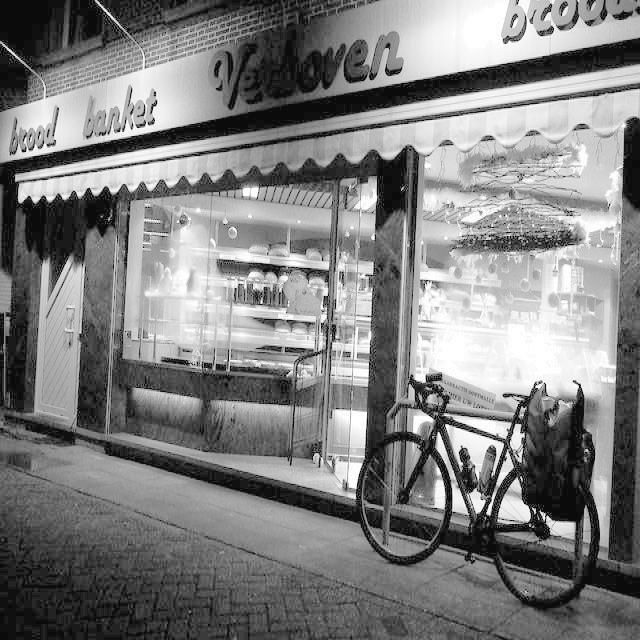Bicycle: (356, 350, 618, 629)
